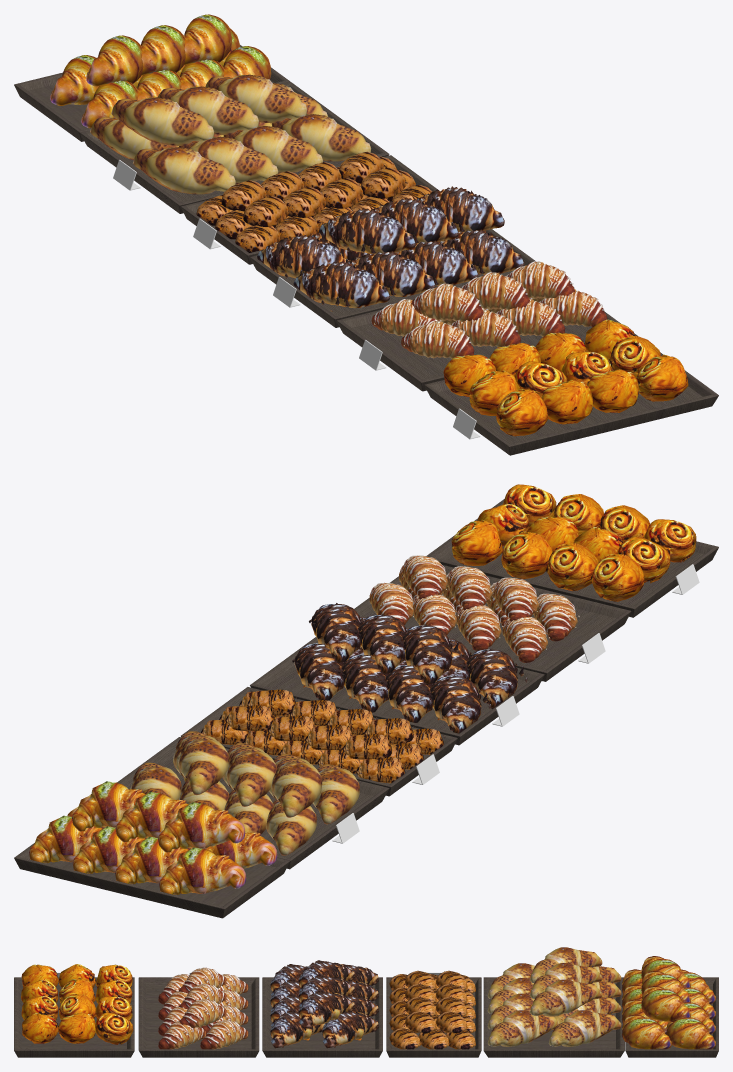
File: bread_pack.glb
3 views of the same model, one above another, from view 1: azimuth 30°, elevation 25°; view 2: azimuth 150°, elevation 25°; view 3: azimuth 270°, elevation 25° (orthographic). The views are drawn at different scales.
Visible parts, largest first — view 1: _3DGeom51, _3DGeom3, _3DGeom2, _3DGeom112, _3DGeom27, _3DGeom38, _3DGeom64, _3DGeom1; view 2: _3DGeom2, _3DGeom3, _3DGeom38, _3DGeom112, _3DGeom51, _3DGeom64, _3DGeom27, _3DGeom1; view 3: _3DGeom2, _3DGeom51, _3DGeom3, _3DGeom112, _3DGeom38, _3DGeom64, _3DGeom27.
Part boxes in pixels (x1=…): _3DGeom51: x1=90, y1=74, x2=371, y2=194; _3DGeom3: x1=257, y1=186, x2=524, y2=311; _3DGeom2: x1=14, y1=44, x2=718, y2=455; _3DGeom112: x1=443, y1=319, x2=688, y2=436; _3DGeom27: x1=371, y1=261, x2=607, y2=358; _3DGeom38: x1=50, y1=14, x2=271, y2=128; _3DGeom64: x1=196, y1=151, x2=432, y2=252; _3DGeom1: x1=113, y1=160, x2=480, y2=439; _3DGeom2: x1=14, y1=499, x2=718, y2=918; _3DGeom3: x1=292, y1=603, x2=527, y2=733; _3DGeom38: x1=29, y1=781, x2=277, y2=895; _3DGeom112: x1=451, y1=484, x2=696, y2=601; _3DGeom51: x1=130, y1=731, x2=359, y2=855; _3DGeom64: x1=201, y1=689, x2=445, y2=783; _3DGeom27: x1=369, y1=555, x2=579, y2=662; _3DGeom1: x1=332, y1=564, x2=699, y2=843; _3DGeom2: x1=14, y1=977, x2=718, y2=1057; _3DGeom51: x1=487, y1=947, x2=621, y2=1046; _3DGeom3: x1=270, y1=960, x2=378, y2=1048; _3DGeom112: x1=21, y1=964, x2=133, y2=1044; _3DGeom38: x1=622, y1=956, x2=715, y2=1049; _3DGeom64: x1=389, y1=970, x2=475, y2=1049; _3DGeom27: x1=158, y1=967, x2=248, y2=1049.
Size of the model in its own units: 0.5806 by 0.1751 by 2.26.
9 materials, 7 textured.
